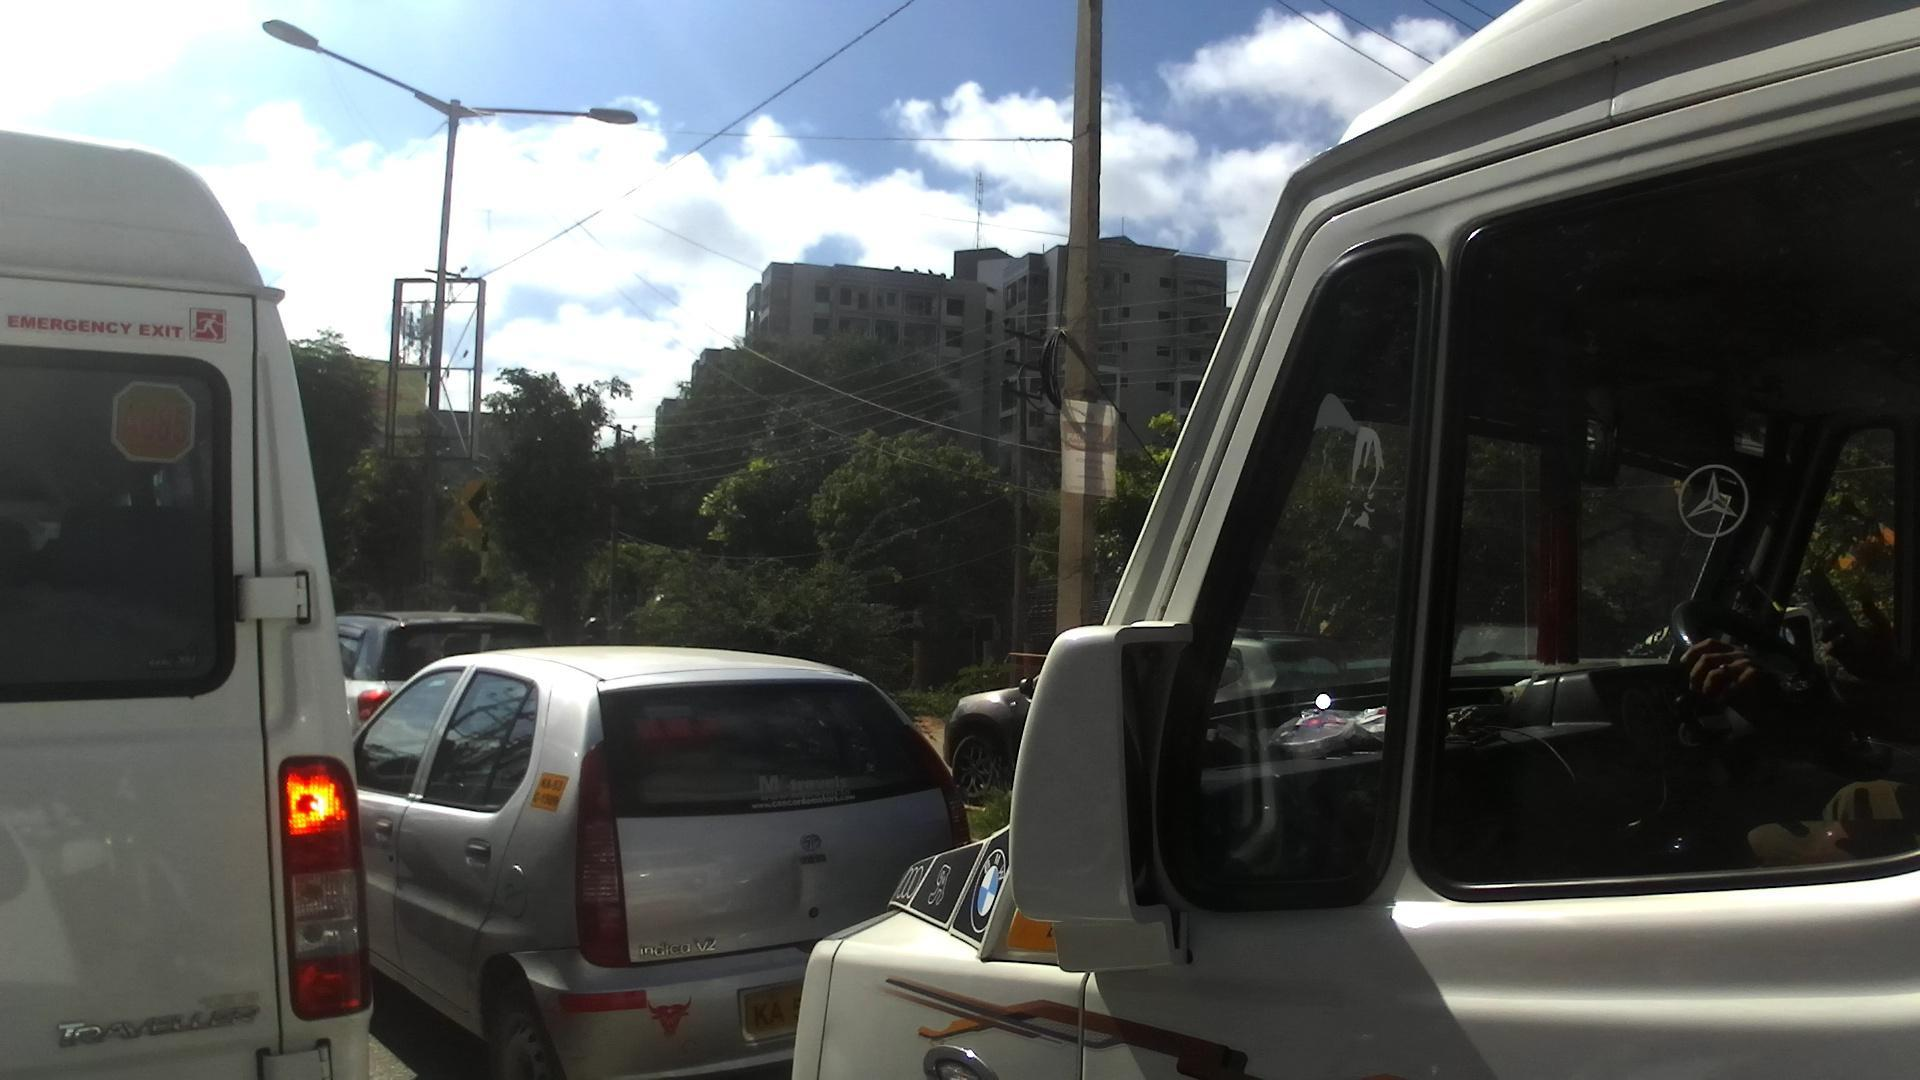off: (11, 0, 1920, 1080)
